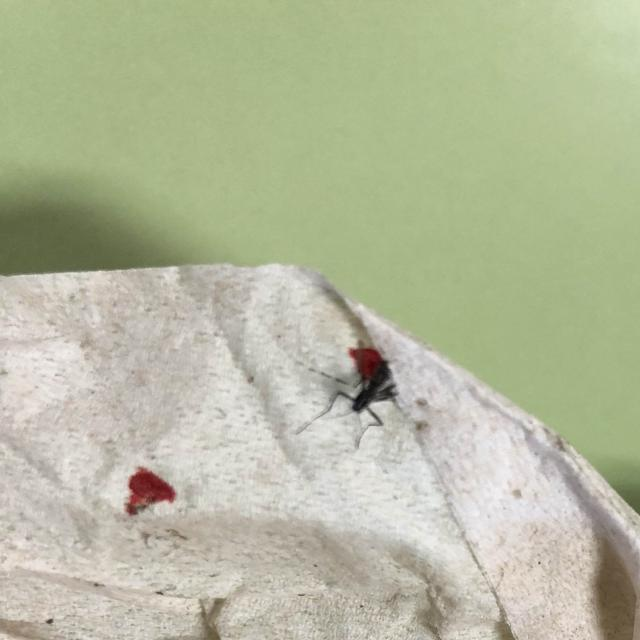albopictus: (287, 340, 411, 449)
